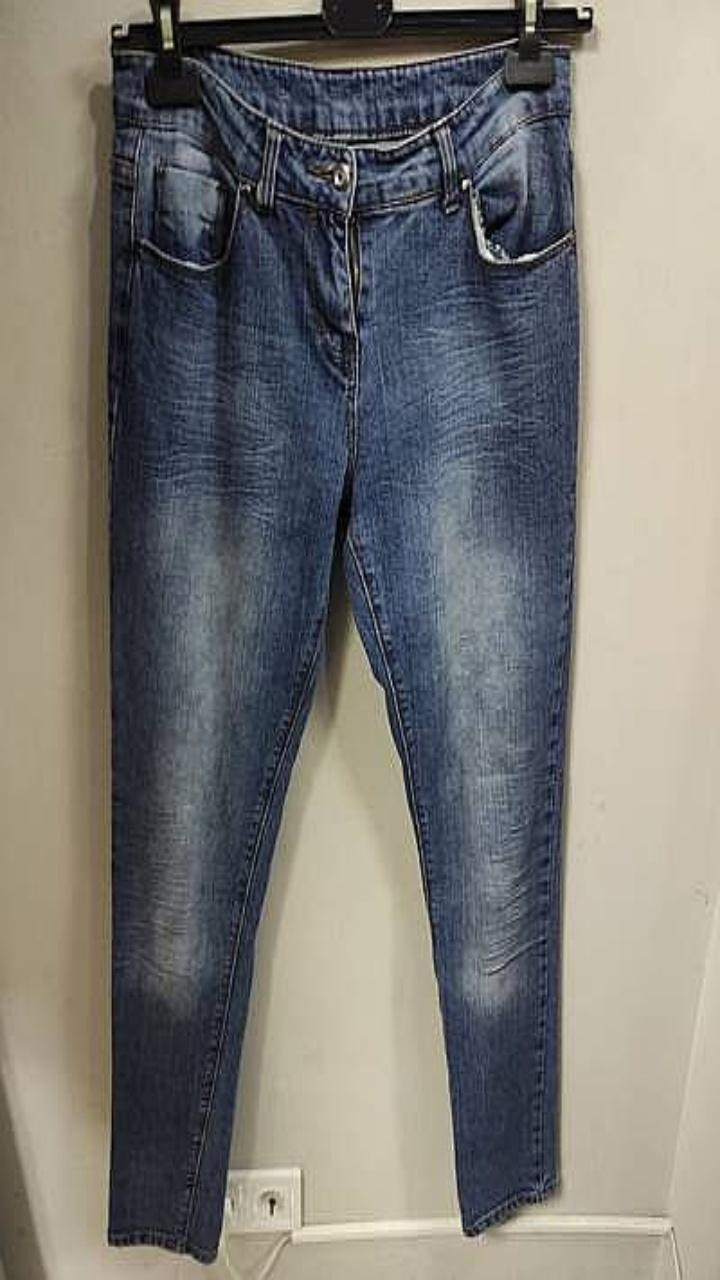Jeans: (107, 41, 578, 1262)
